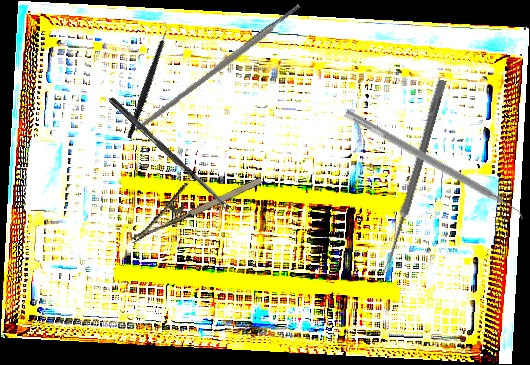Chopper: (90, 18, 203, 141)
Needle Holder: (118, 155, 265, 244)
Scalpel Handle: (133, 2, 303, 135)
Spatula Surgical: (339, 108, 530, 225)
Surgical Spoon: (107, 96, 234, 215), (381, 78, 447, 276)
